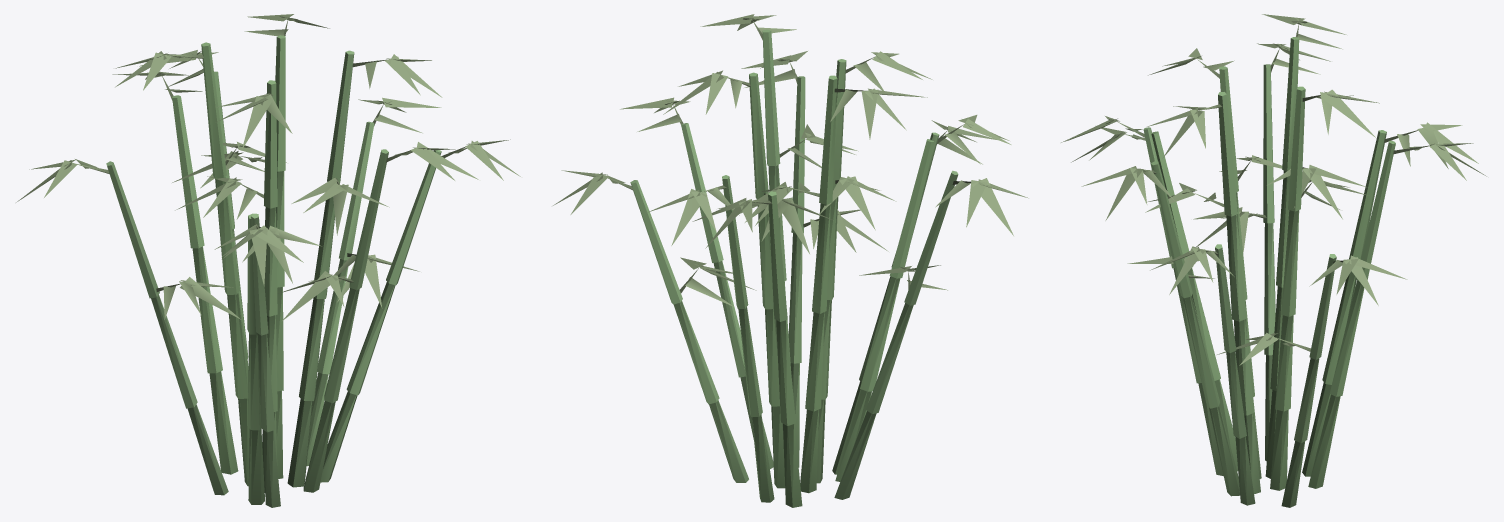
Rendered from bamboo.glb.
The picture shows the model from 3 angles, left to right: view 1: azimuth 30°, elevation 25°; view 2: azimuth 150°, elevation 25°; view 3: azimuth 270°, elevation 25°; orthographic projection. The views are drawn at different scales.
Parts seen in each view (by area): view 1: bamboo; view 2: bamboo; view 3: bamboo.
Boxes of the visible parts, box(x1,y1,x2,y2) form: bamboo: box(16, 14, 520, 507); bamboo: box(553, 14, 1028, 507); bamboo: box(1061, 14, 1486, 507).
Bounding box in the file's own units: 7.05 × 6.56 × 6.09.
